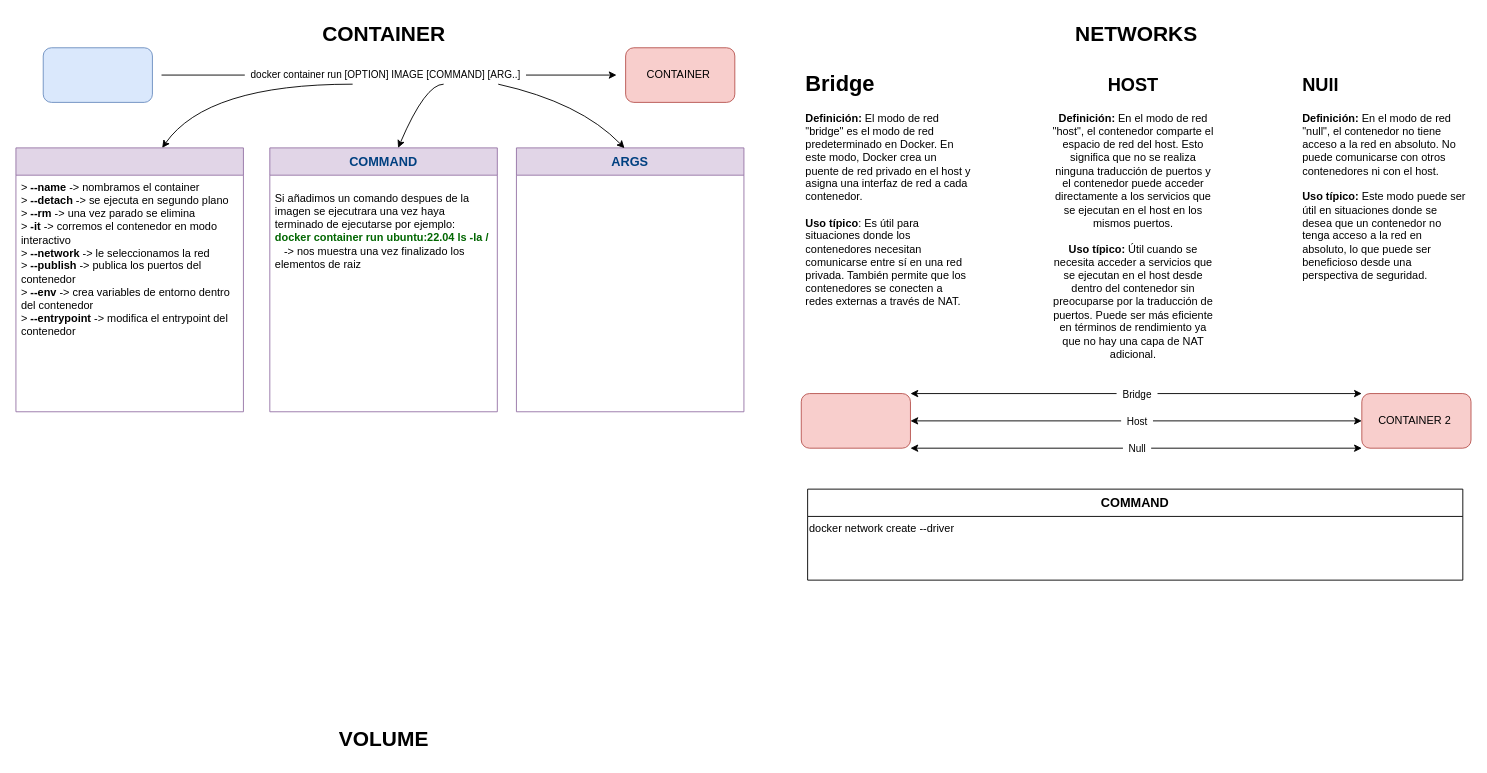
The diagram is 1487 pixels wide and 773 high, and some of its shapes have lost their labels. The box of each missing label's shape, as (x1, y1, x2, y2) in pixels:
CONTAINER 1: (800, 393, 910, 448)
IMAGE: (42, 47, 152, 102)
OPTION: (15, 147, 243, 412)
